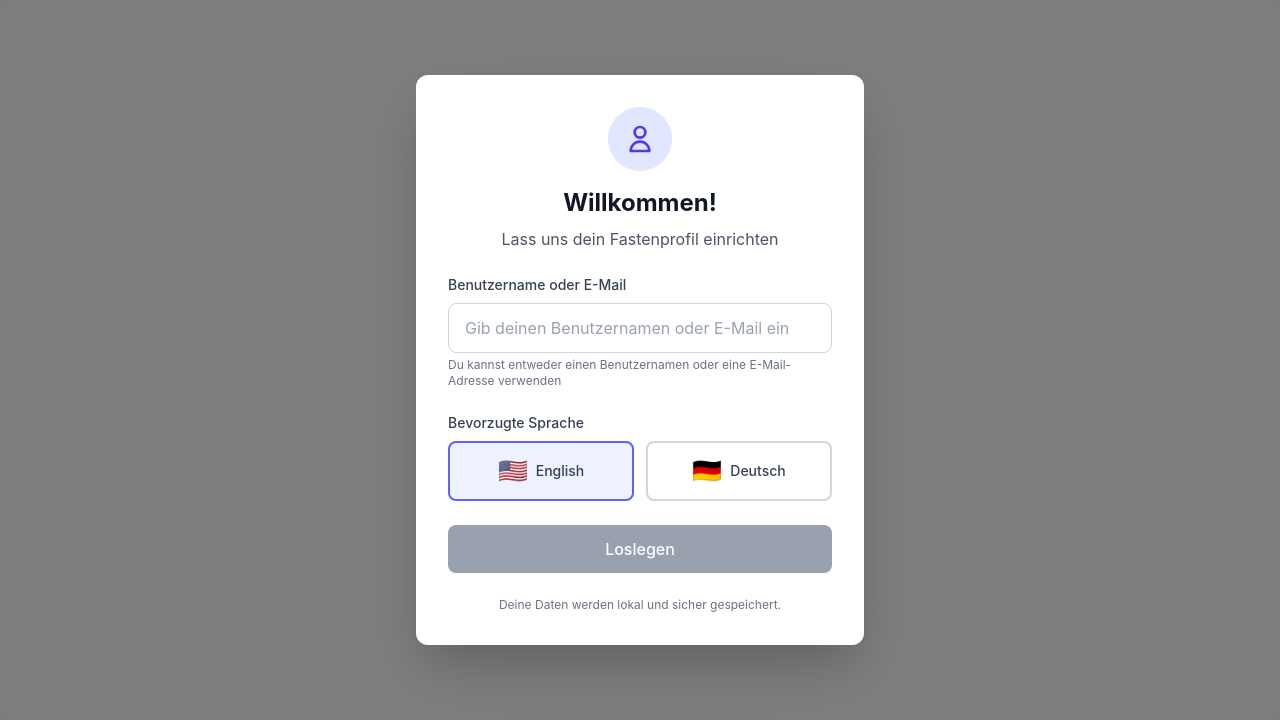
UserSetup Component › Username Already Exists Scenario › should display USER_EXISTS error when email already exists
# Fill in the email field
Step 1. Type "existing@example.com" into the field with id "identifier" → (640, 328), box [448,303,832,353]
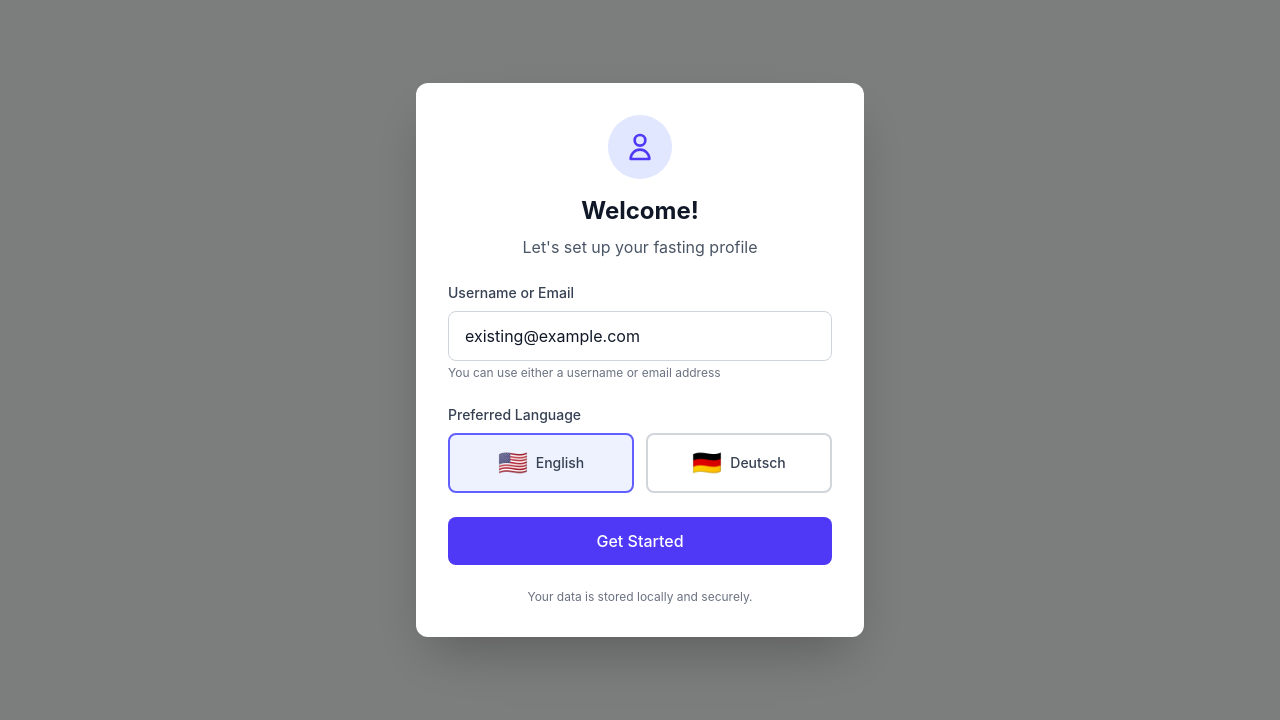
# Submit the form
Step 2. Submit the form, box [448,283,832,565]
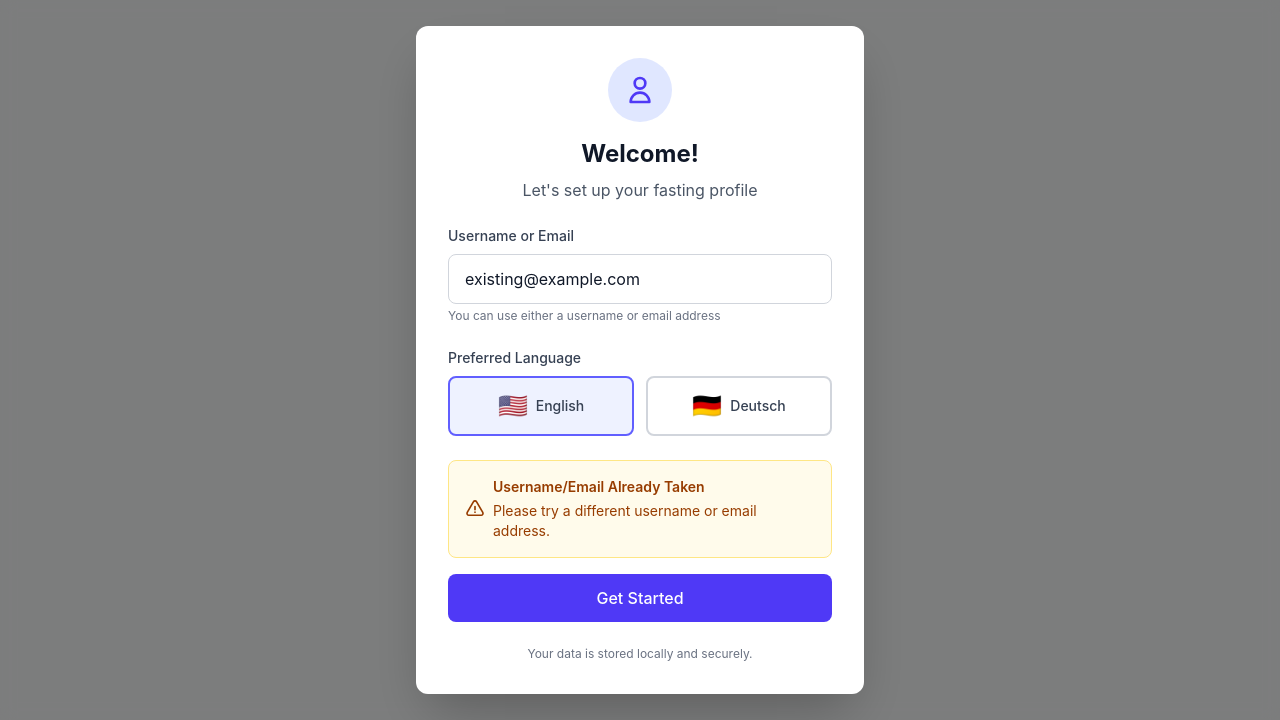
Expected: the element that starts with "Username/Email Already Taken" is shown, [448,460,832,558]
